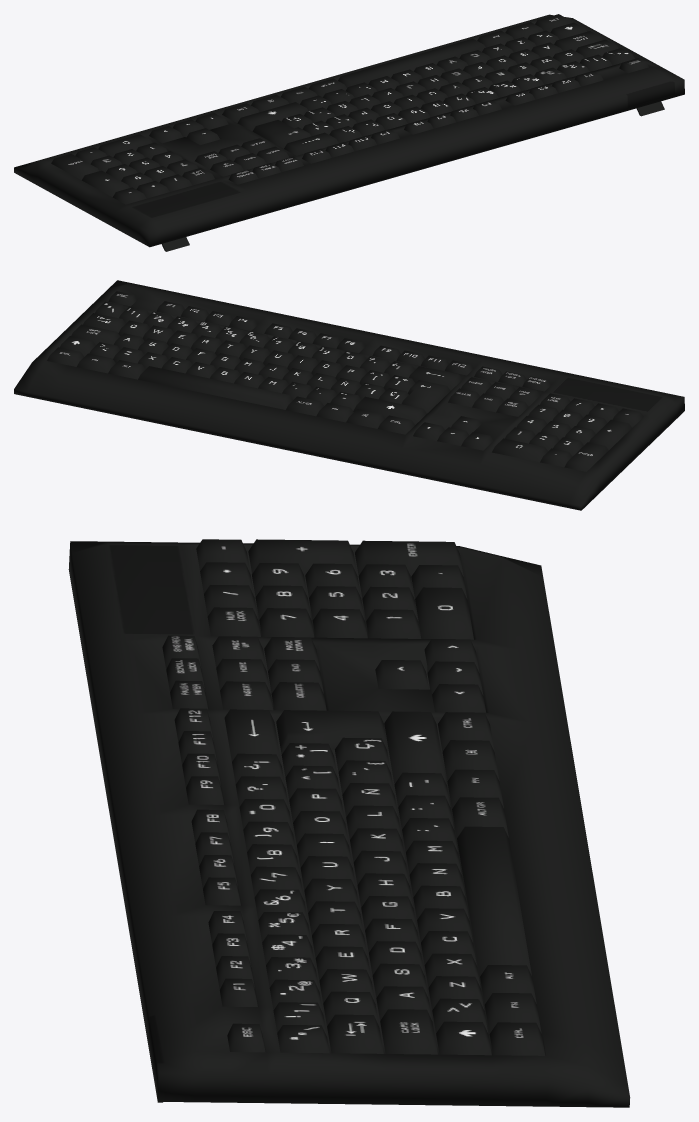
The model's file is clavier.gltf.
3 renders of one model, top to bottom at view 1: azimuth 30°, elevation 25°; view 2: azimuth 150°, elevation 25°; view 3: azimuth 270°, elevation 25°, orthographic. The views are drawn at different scales.
Parts seen in each view (by area): view 1: SM_Keyboard; view 2: SM_Keyboard; view 3: SM_Keyboard.
Boxes of the visible parts, <box> form: SM_Keyboard: <box>14,14,684,251</box>; SM_Keyboard: <box>14,280,684,510</box>; SM_Keyboard: <box>68,539,630,1107</box>.
Bounding box in the file's own units: 0.4608 × 0.025 × 0.2002.
Materials: 1 (1 with a texture image).
